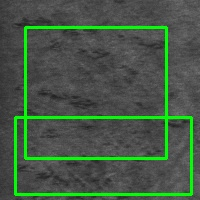rolled-in_scale: (25, 27, 166, 158), (15, 117, 191, 194)
